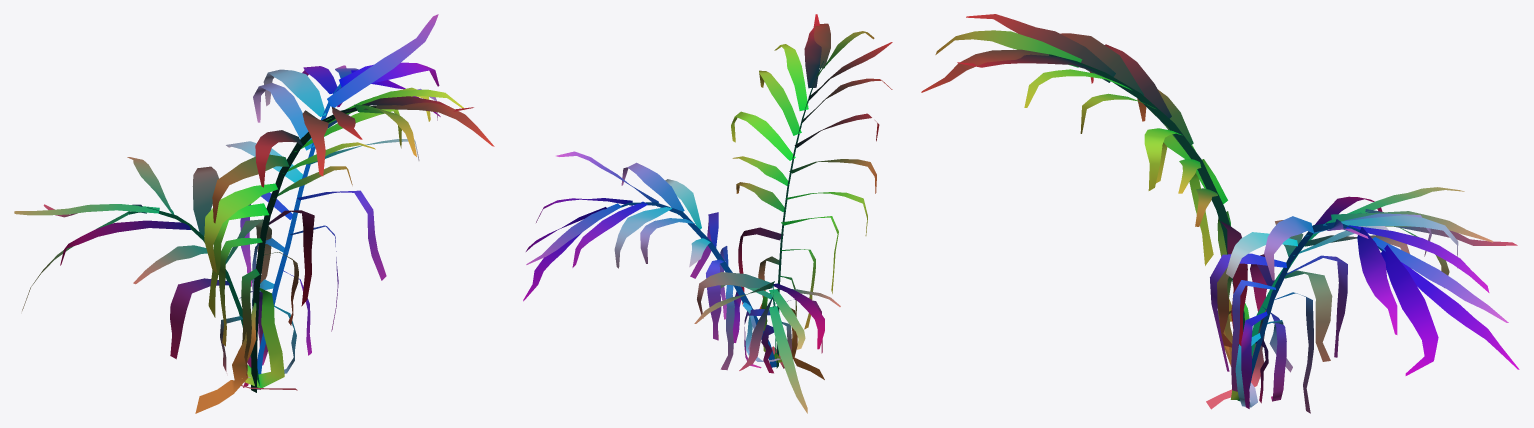
The model's file is Ginger_Plant_sgbmM_Low_sgbmM_VarA_LOD0.fbx.
3 renders of one model, left to right at view 1: azimuth 30°, elevation 25°; view 2: azimuth 150°, elevation 25°; view 3: azimuth 270°, elevation 25°, orthographic. The views are drawn at different scales.
Visible parts, largest first — view 1: _6606_VarA_LOD2; view 2: _6606_VarA_LOD2; view 3: _6606_VarA_LOD2.
Boxes of the visible parts, x1=… form: _6606_VarA_LOD2: x1=14, y1=14, x2=494, y2=413; _6606_VarA_LOD2: x1=523, y1=14, x2=892, y2=413; _6606_VarA_LOD2: x1=921, y1=14, x2=1519, y2=413.
Bounding box in the file's own units: 146 × 128 × 180.
